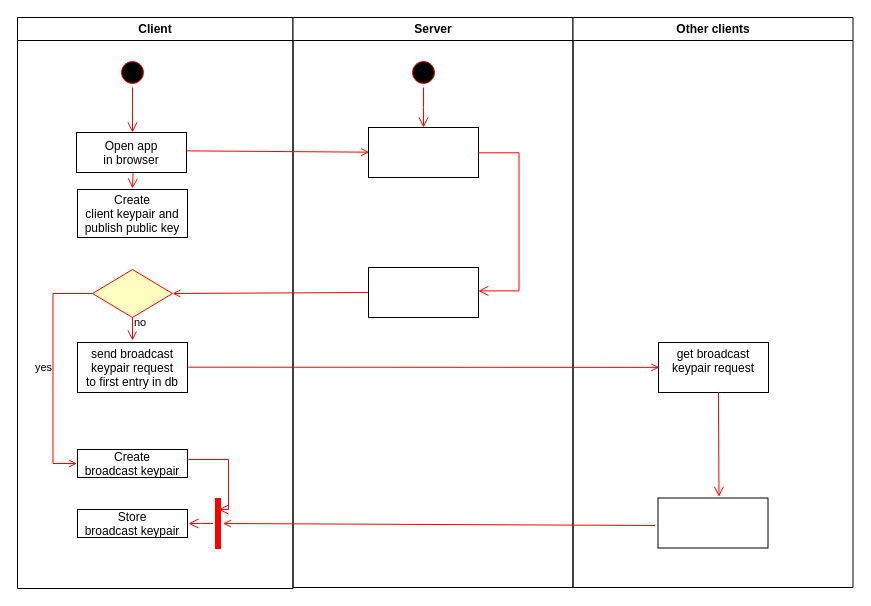
This 871x606 diagram has some shape labels left out. Each missing label, with the centre of its shape:
db empty: the point at 132,293
Get request: the point at 423,152
send broadcast keypair (e2ee): the point at 712,522
Send client id and client db: the point at 423,292
